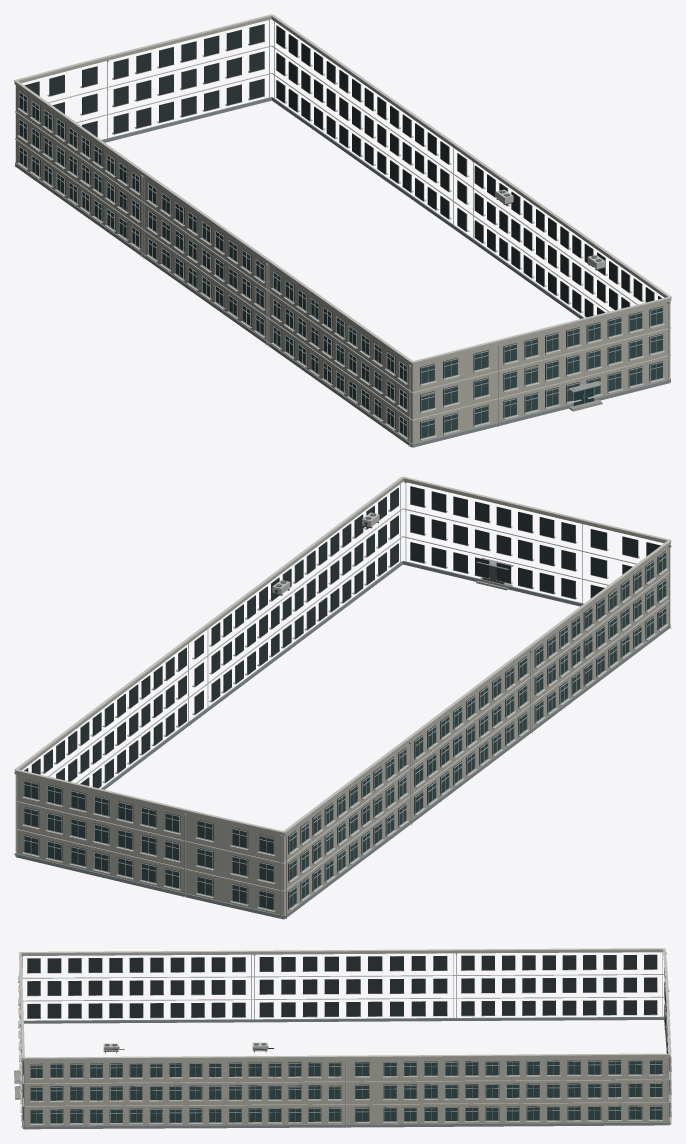
The model's file is osm_way_223859784.glb.
The picture shows the model from 3 angles, top to bottom: view 1: azimuth 30°, elevation 25°; view 2: azimuth 150°, elevation 25°; view 3: azimuth 270°, elevation 25°; orthographic projection. The views are drawn at different scales.
Parts seen in each view (by area): view 1: Windows and facade details | 南邮仙林二食堂, Architecture | 南邮仙林二食堂, Roof services | 南邮仙林二食堂, EXTERIOR::osm_way_223859784::rainwater and roof service deta, EXTERIOR::osm_way_223859784::inferred entry doors canopy and; view 2: Windows and facade details | 南邮仙林二食堂, Architecture | 南邮仙林二食堂, Roof services | 南邮仙林二食堂, EXTERIOR::osm_way_223859784::rainwater and roof service deta; view 3: Windows and facade details | 南邮仙林二食堂, Architecture | 南邮仙林二食堂, Roof services | 南邮仙林二食堂, EXTERIOR::osm_way_223859784::rainwater and roof service deta.
Part boxes in pixels (left/top/right/bottom): Windows and facade details | 南邮仙林二食堂: left=15, top=20, right=670, bottom=440; Architecture | 南邮仙林二食堂: left=14, top=16, right=671, bottom=447; Roof services | 南邮仙林二食堂: left=14, top=14, right=671, bottom=363; EXTERIOR::osm_way_223859784::rainwater and roof service deta: left=107, top=21, right=670, bottom=446; EXTERIOR::osm_way_223859784::inferred entry doors canopy and: left=568, top=379, right=603, bottom=411; Windows and facade details | 南邮仙林二食堂: left=16, top=484, right=668, bottom=918; Architecture | 南邮仙林二食堂: left=15, top=479, right=670, bottom=919; Roof services | 南邮仙林二食堂: left=14, top=476, right=671, bottom=833; EXTERIOR::osm_way_223859784::rainwater and roof service deta: left=14, top=482, right=671, bottom=919; Windows and facade details | 南邮仙林二食堂: left=18, top=952, right=671, bottom=1129; Architecture | 南邮仙林二食堂: left=21, top=950, right=670, bottom=1129; Roof services | 南邮仙林二食堂: left=19, top=948, right=670, bottom=1058; EXTERIOR::osm_way_223859784::rainwater and roof service deta: left=20, top=952, right=669, bottom=1127.
Bounding box in the file's own units: 44.08 × 13.98 × 110.
